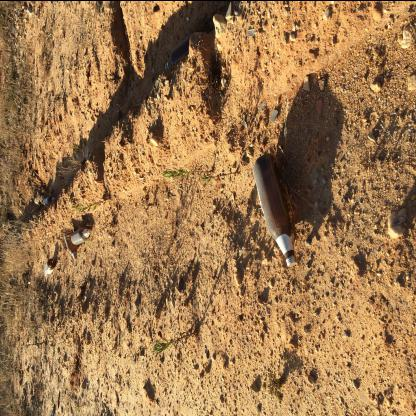cam: (252, 152, 298, 268), (64, 228, 78, 258), (70, 226, 92, 244), (43, 258, 56, 276), (44, 194, 56, 204)
